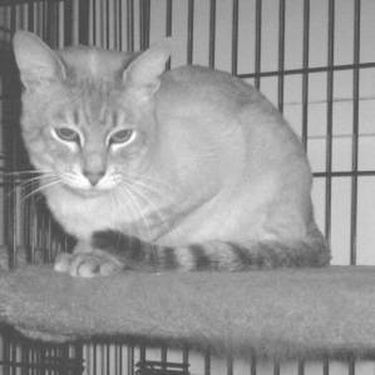cat: (1, 27, 332, 273)
